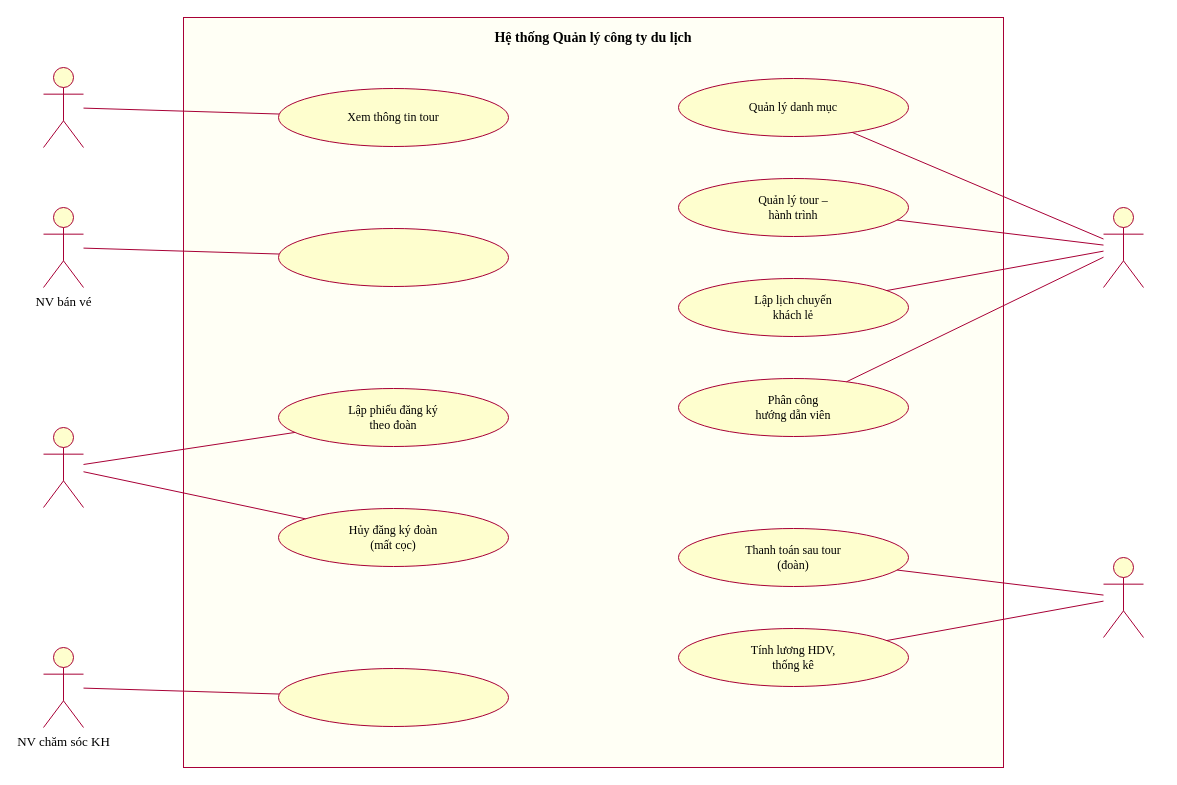
This 1177x785 diagram has some shape labels left out. The centre of each missing label's shape, as x and y in pixels:
Khách hàng: pixel 63 107
Khảo sát khách hàng: pixel 393 697
Kế toán: pixel 1123 597
NV kinh doanh: pixel 63 467
NV điều hành: pixel 1123 247
Đăng ký khách lẻ theo chuyến: pixel 393 257
